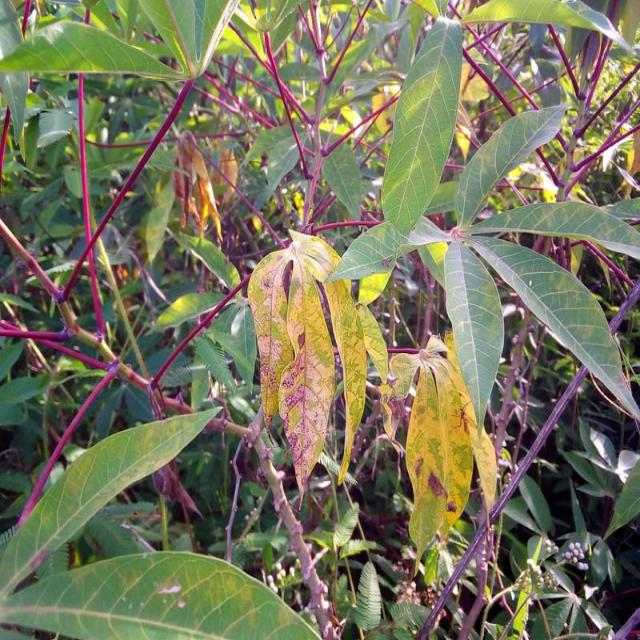cassava leaf: (0, 404, 222, 598), (246, 227, 368, 506), (468, 232, 638, 422), (0, 548, 322, 637), (379, 15, 463, 240), (454, 101, 568, 228)
